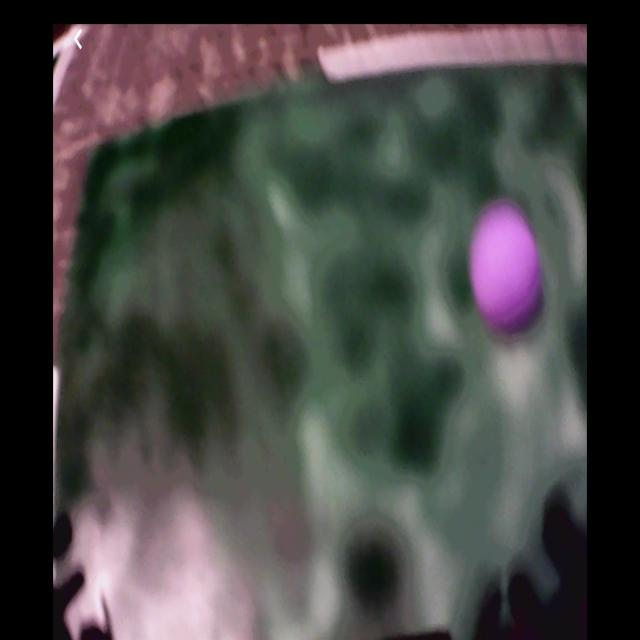ball: (469, 202, 541, 333)
